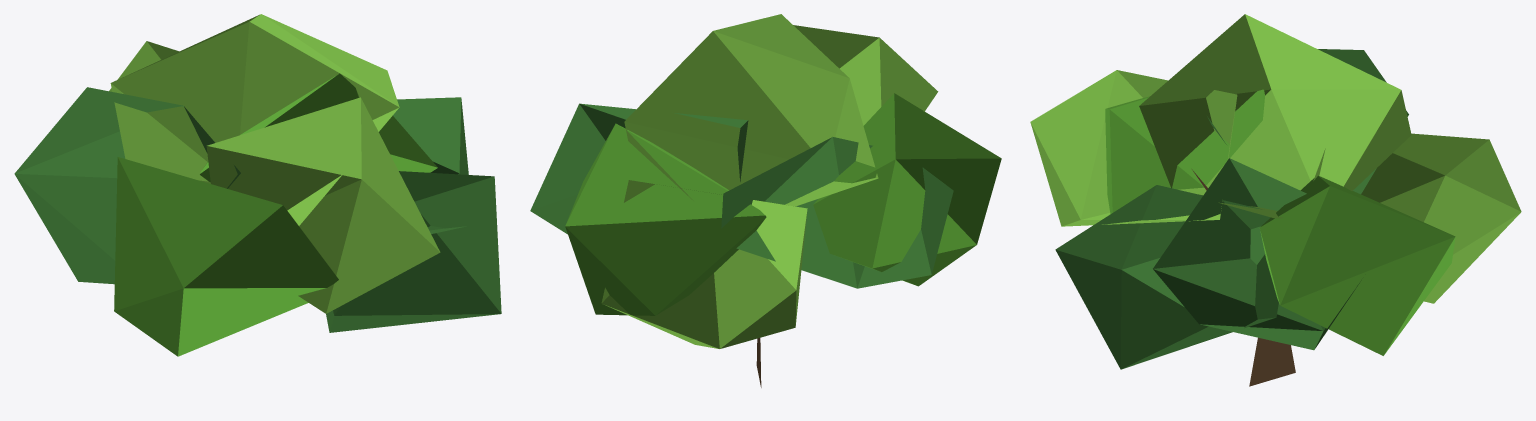
Rendered from tree_oak_3_lod2.glb.
3 views of the same model, side by side, from view 1: azimuth 30°, elevation 25°; view 2: azimuth 150°, elevation 25°; view 3: azimuth 270°, elevation 25° (orthographic). The views are drawn at different scales.
Visible parts, largest first — view 1: tree_oak_3_lod2; view 2: tree_oak_3_lod2; view 3: tree_oak_3_lod2.
Boxes of the visible parts, x1,y1,x2,y2 form: tree_oak_3_lod2: (14,14,501,356); tree_oak_3_lod2: (530,14,1001,387); tree_oak_3_lod2: (1030,14,1521,386).
Bounding box in the file's own units: 8.04 × 7.08 × 8.38.
